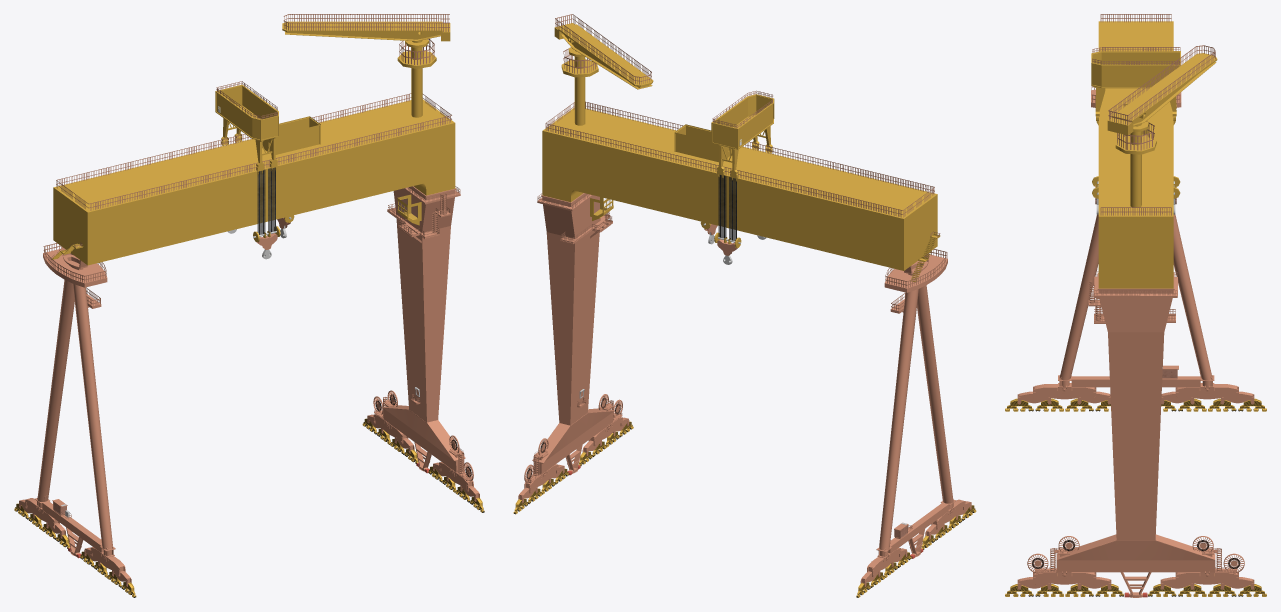
Rendered from goliathCrane.fbx.
3 renders of one model, left to right at view 1: azimuth 30°, elevation 25°; view 2: azimuth 150°, elevation 25°; view 3: azimuth 270°, elevation 25°, orthographic. The views are drawn at different scales.
Parts seen in each view (by area): view 1: goliathCrane_lo; view 2: goliathCrane_lo; view 3: goliathCrane_lo.
Boxes of the visible parts, bbox=[...] form: goliathCrane_lo: bbox=[14, 14, 484, 597]; goliathCrane_lo: bbox=[513, 14, 976, 597]; goliathCrane_lo: bbox=[1005, 14, 1266, 597].
Size of the model in its own units: 133 by 147 by 70.56.
